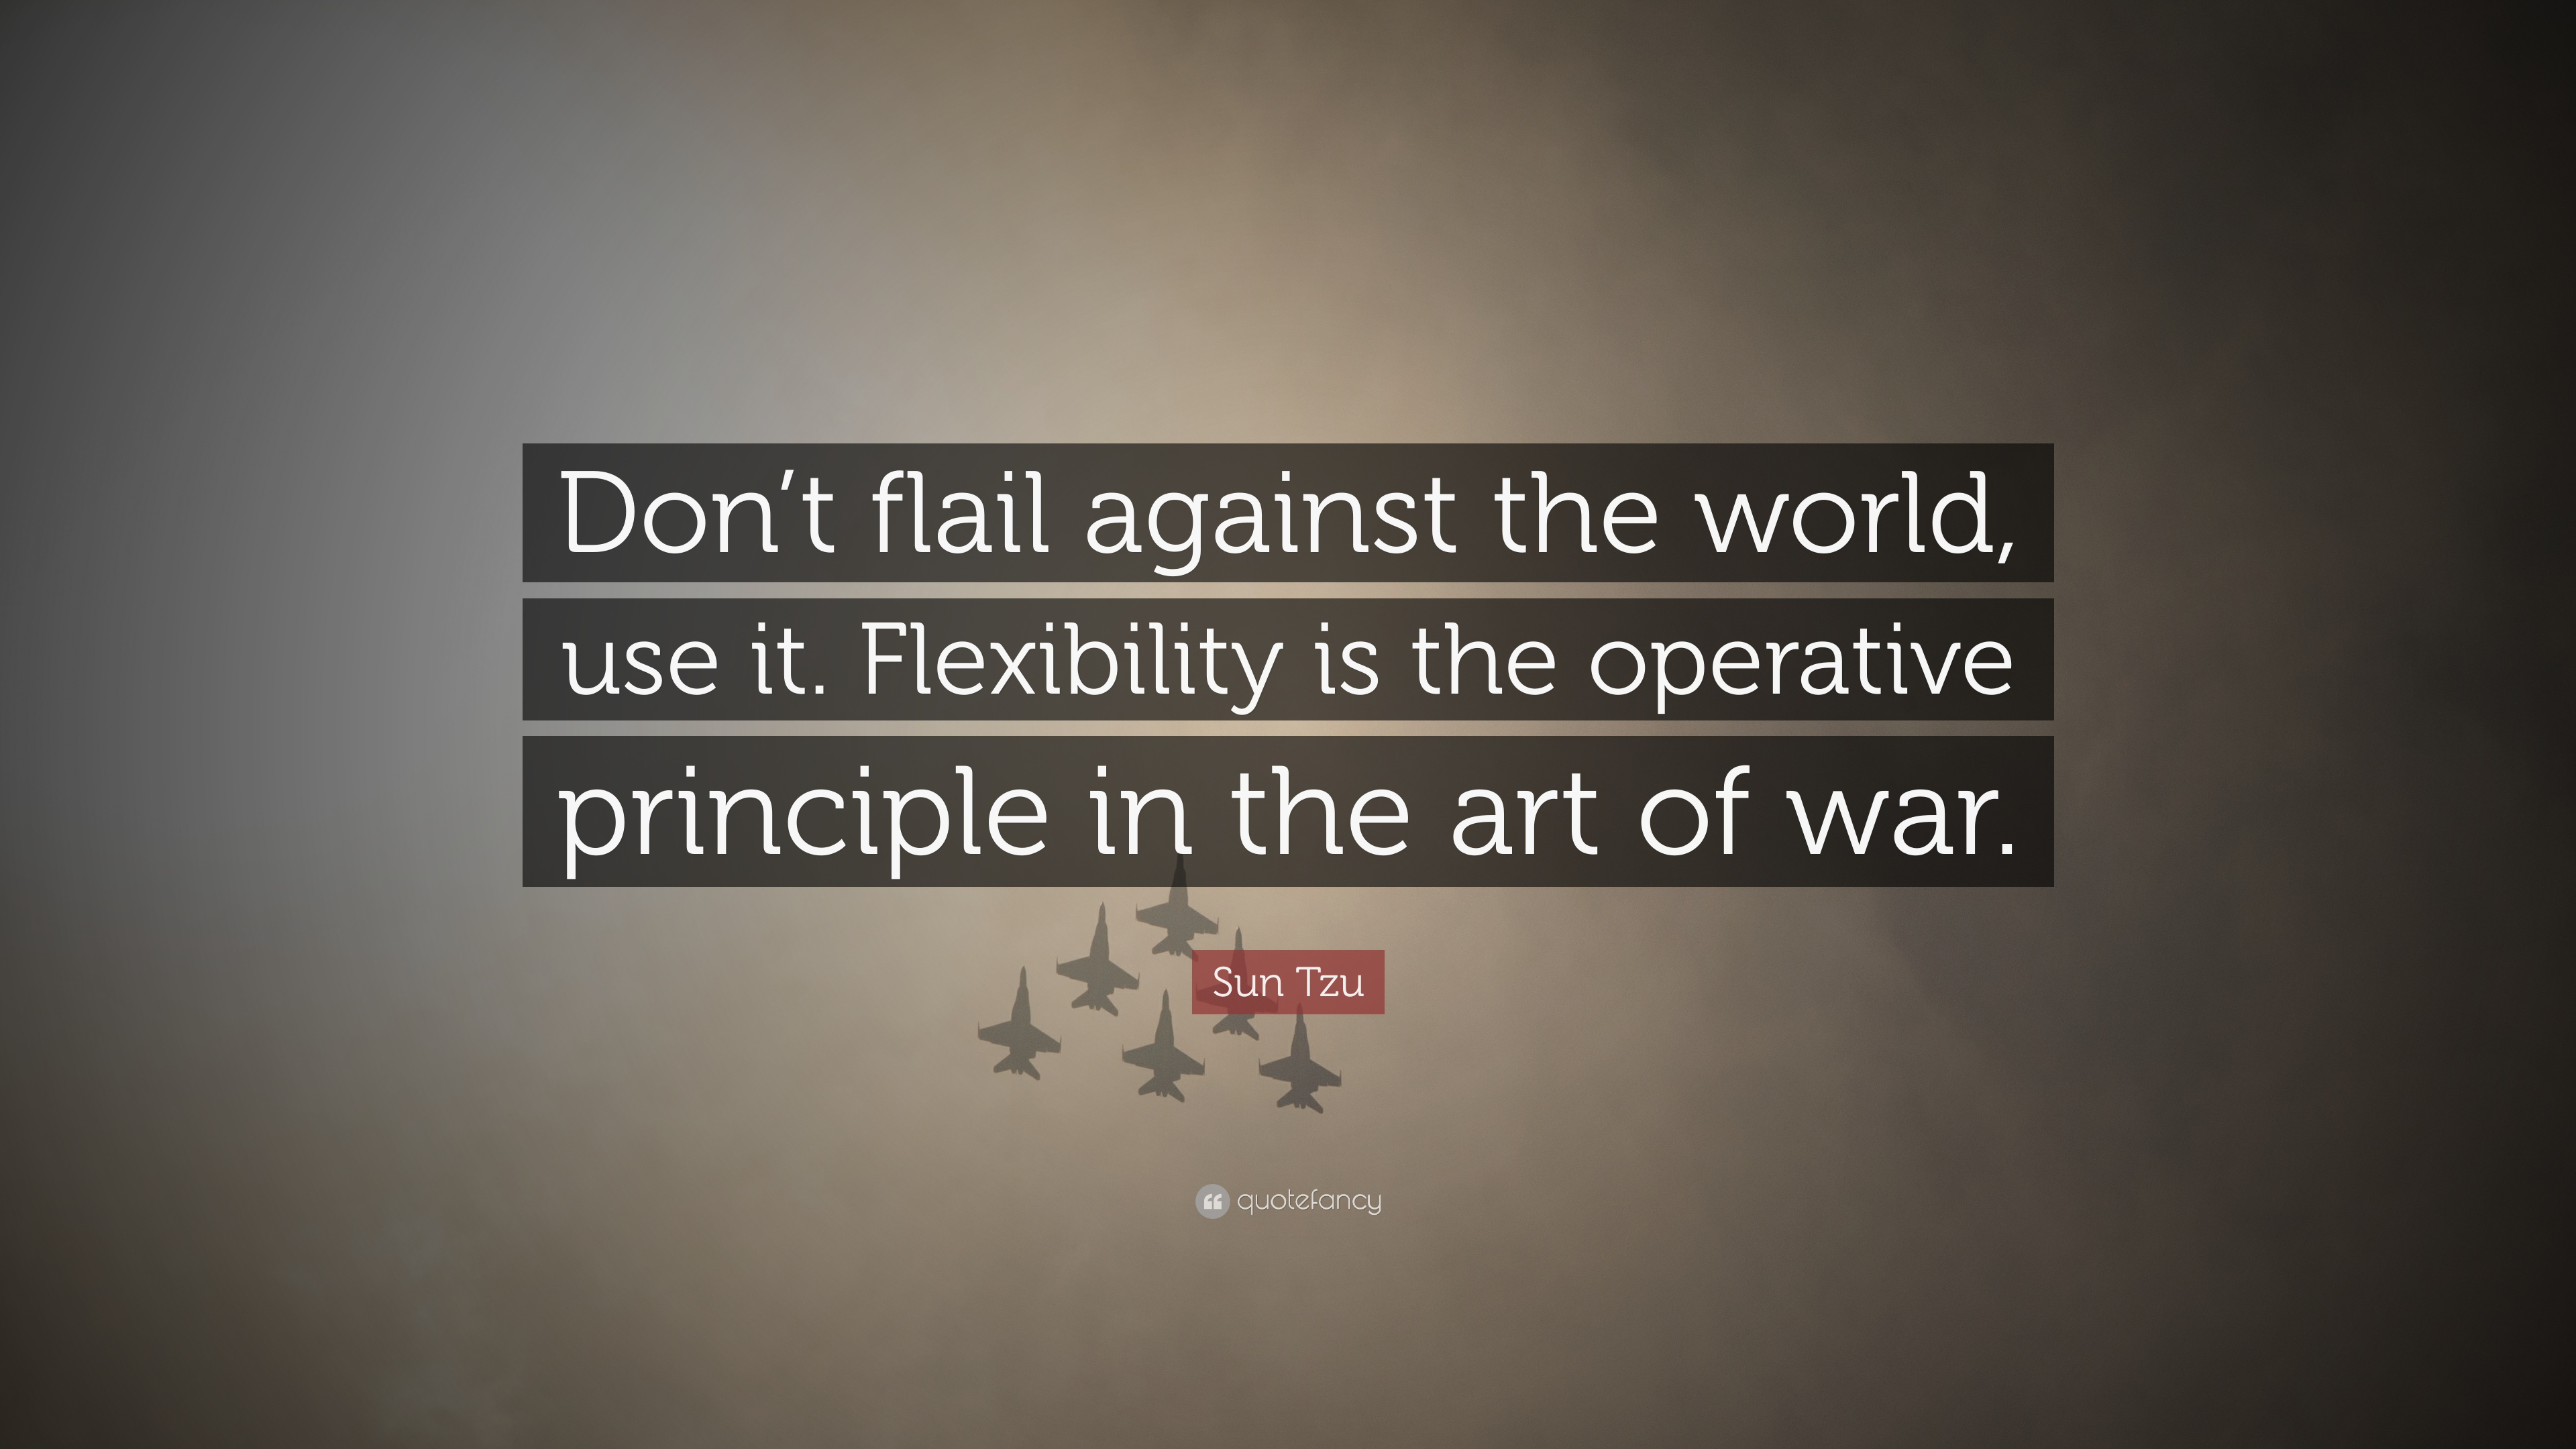latin: (543, 462, 2029, 892), (1210, 962, 1369, 1005), (1237, 1187, 1385, 1221)
